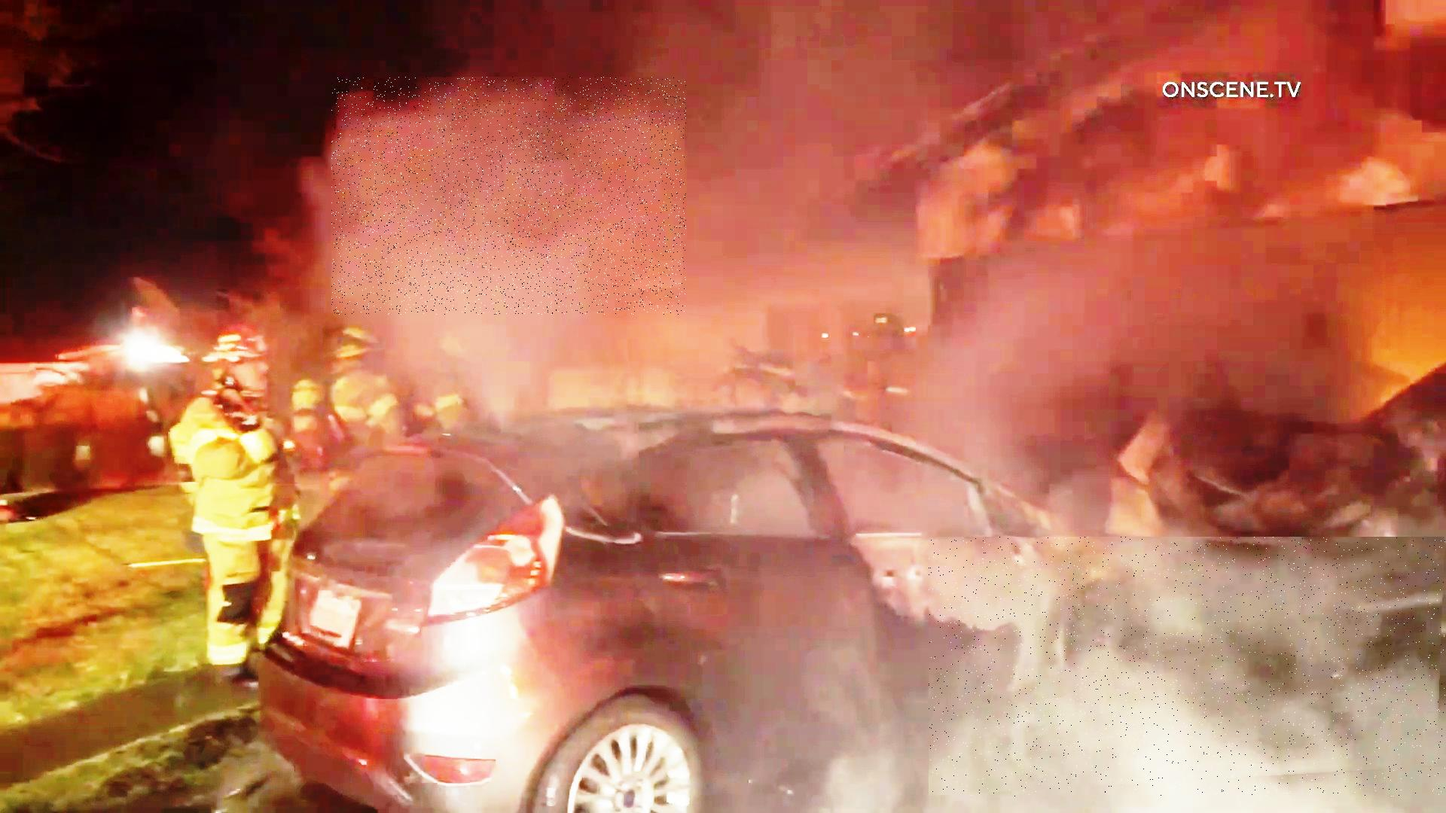smoke: (929, 537, 1446, 797), (332, 77, 686, 315)
